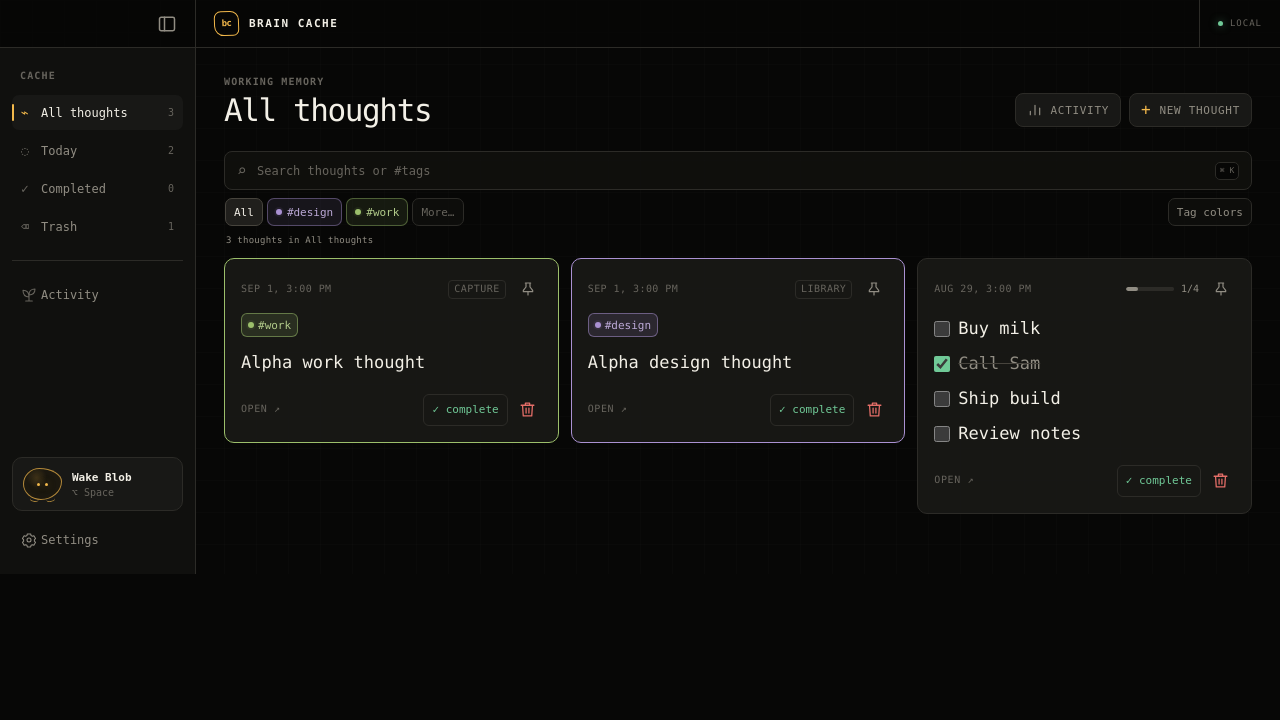
Test: library tagging and retrieval › keeps a failed pin unchanged and offers a working retry
The image size is (1280, 720).
Click the button named "Pin thought: Alpha design thought": click(874, 289) [860,275,888,303]
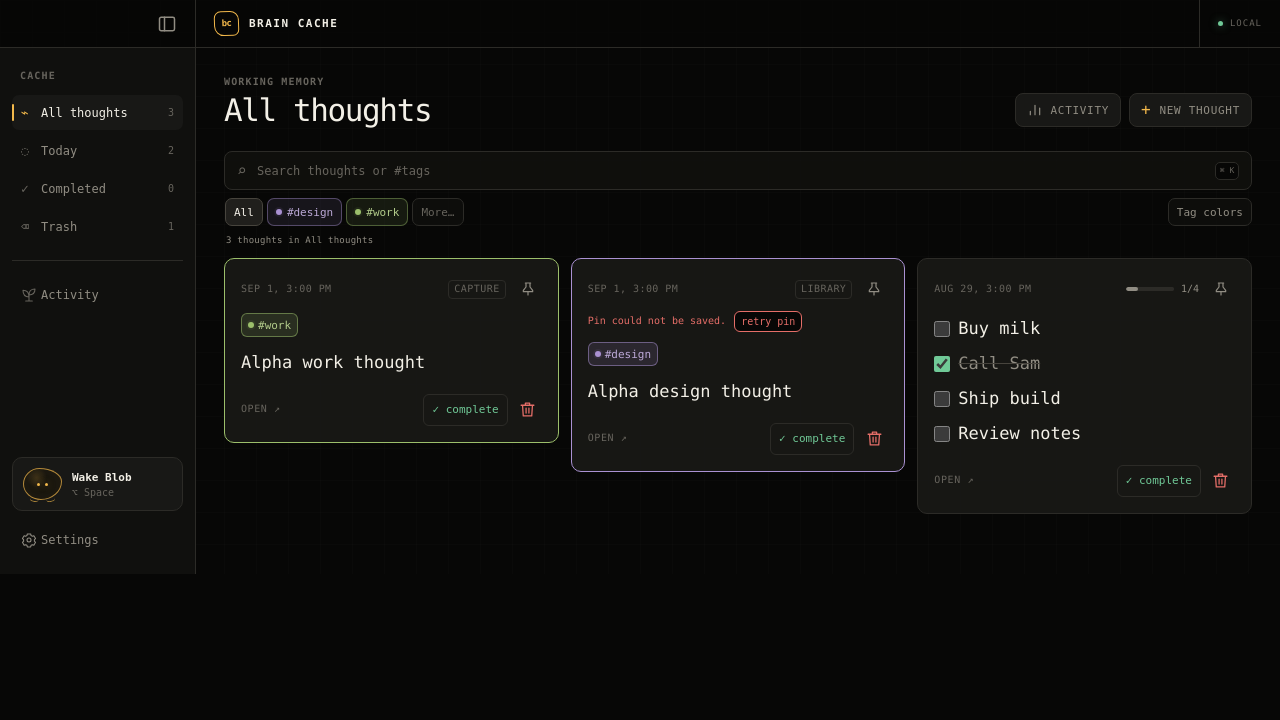
Check: the message with class "thought-card__pin-error" shows "Pin could not be saved.", box [588,316,726,327]
Click the button "retry pin": click(768, 322) [734,311,802,332]
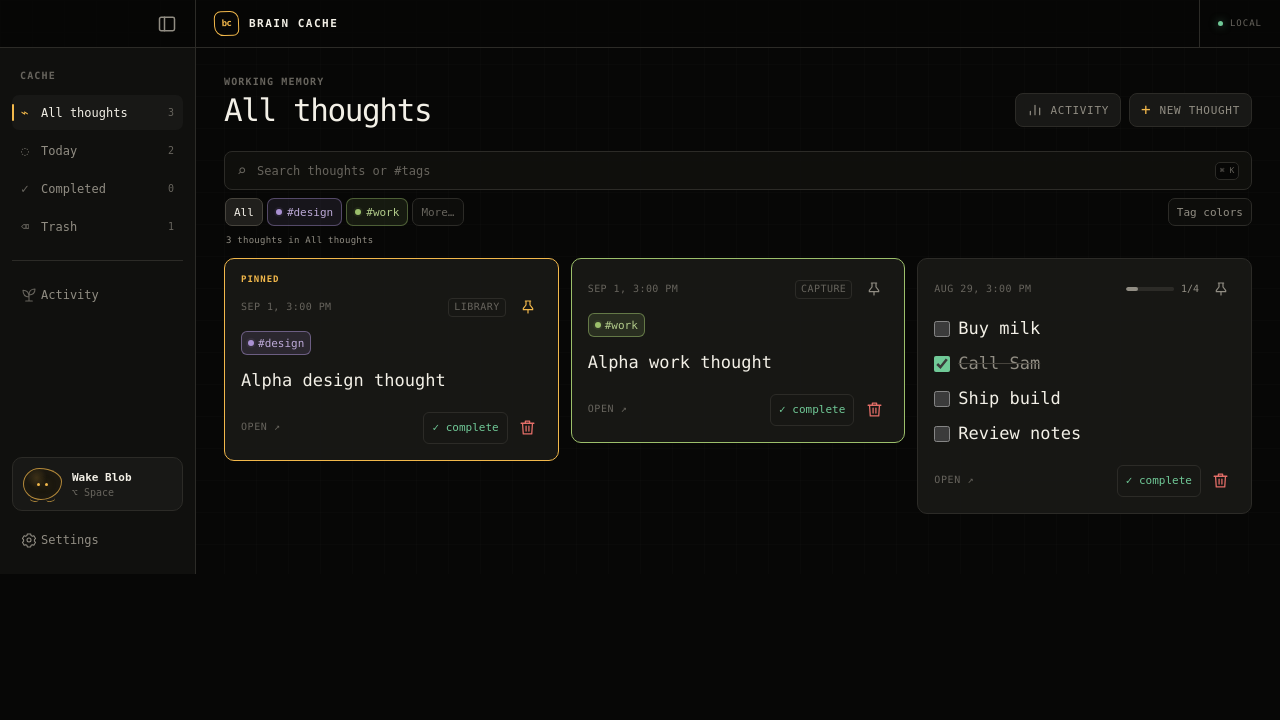
Check: the message with class "thought-card__pin-error" is gone
